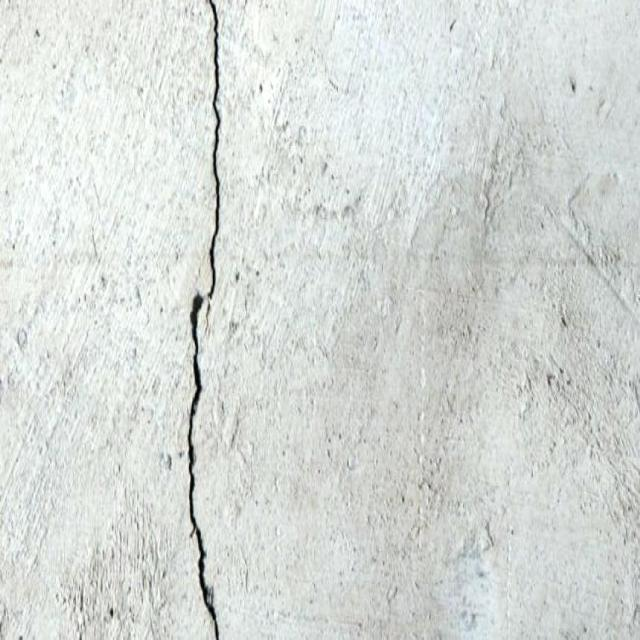Wall_Cracks: (158, 4, 255, 640)
